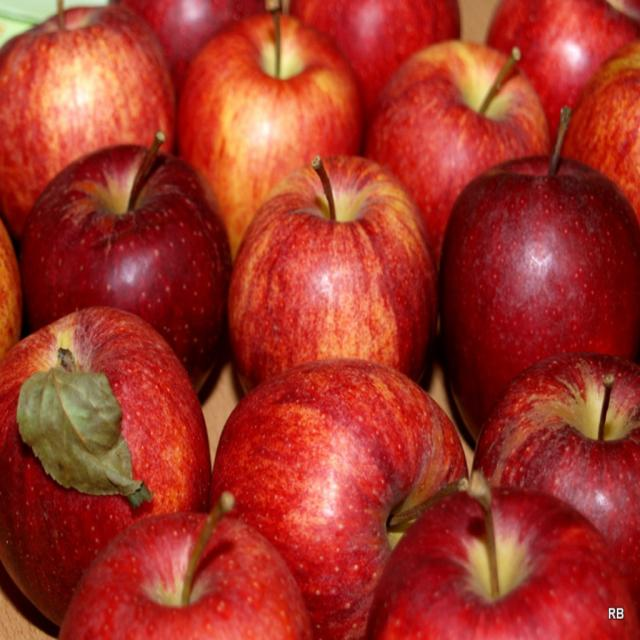Healty Apple: (0, 0, 639, 639), (230, 150, 440, 392)
